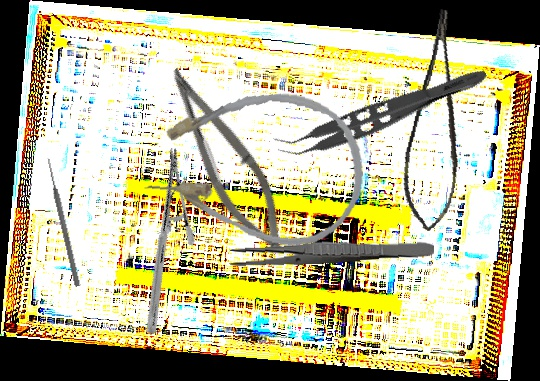Cannula: (139, 77, 373, 254)
Dressing Forceps: (228, 235, 435, 269)
Micro Scissor: (145, 59, 304, 262), (391, 7, 490, 235)
Needle Holder: (86, 146, 239, 336)
Pusher: (44, 156, 82, 288)
Tissue Forceps: (272, 50, 491, 171)
